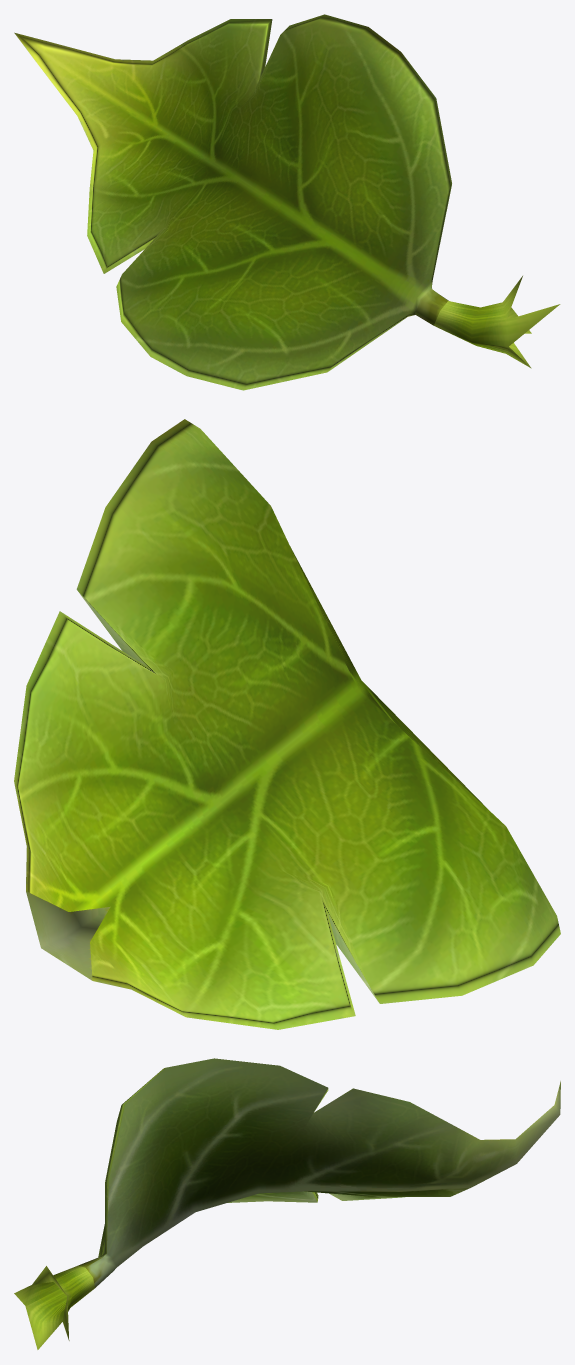
File: sunflower2_ala_der.obj
3 renders of one model, top to bottom at view 1: azimuth 30°, elevation 25°; view 2: azimuth 150°, elevation 25°; view 3: azimuth 270°, elevation 25°, orthographic. The views are drawn at different scales.
Visible parts, largest first — view 1: sunflower2_ala_der; view 2: sunflower2_ala_der; view 3: sunflower2_ala_der.
Boxes of the visible parts, box(x1,y1,x2,y2) form: sunflower2_ala_der: box(14, 14, 560, 390); sunflower2_ala_der: box(14, 419, 560, 1029); sunflower2_ala_der: box(14, 1058, 560, 1349).
Bounding box in the file's own units: 0.2669 × 0.2368 × 0.4473.
